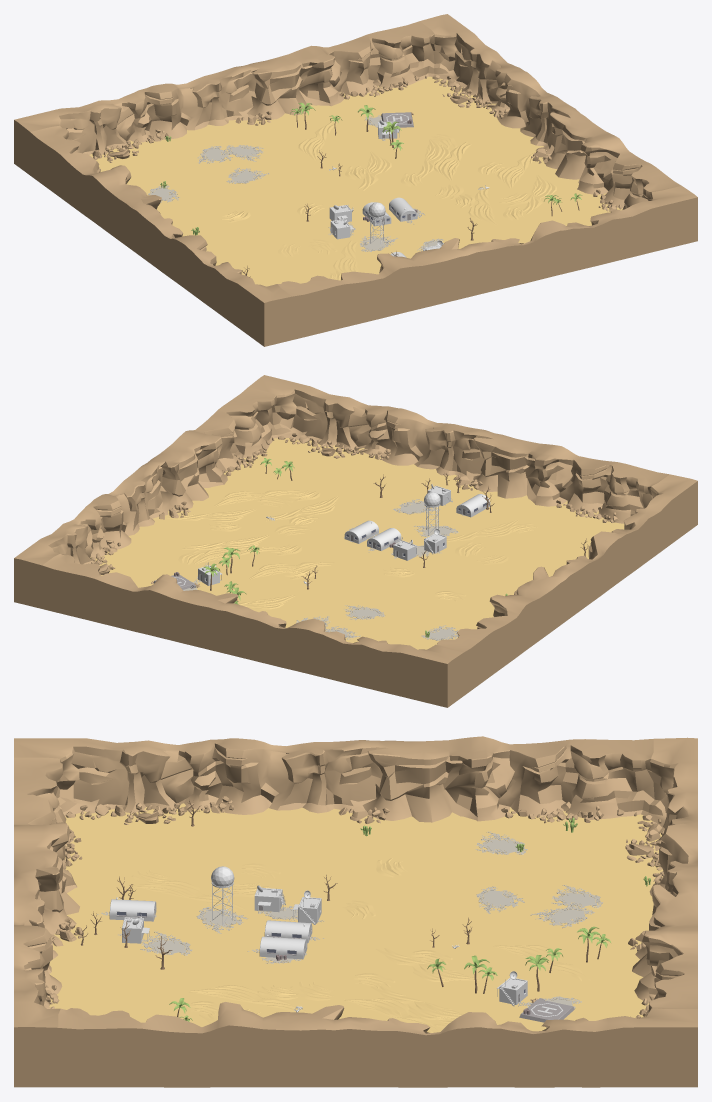
The model's file is _Complete-Game.gltf.
3 renders of one model, top to bottom at view 1: azimuth 30°, elevation 25°; view 2: azimuth 150°, elevation 25°; view 3: azimuth 270°, elevation 25°, orthographic. The views are drawn at different scales.
Parts seen in each view (by area): view 1: GroundPlane, Boundaries, Cliff (2), Cliff (1), Cliff (3), Dunes02 (7), Dunes02 (6), Dunes02 (1), Dunes02 (5), Dunes02 (4), Dunes02 (2), Dunes02 (3); view 2: GroundPlane, Boundaries, Cliff (2), Cliff (3), Cliff (1), Dunes02 (6), Dunes02 (4), Dunes02 (1), Dunes02 (5), Dunes02 (3), Dunes02, Building02 (+1 smaller); view 3: GroundPlane, Cliff (1), Cliff (3), Cliff (2), Boundaries, Dunes02 (1), Dunes02, Dunes02 (6), Building02 (1), Dunes02 (2), Dunes02 (5), Dunes02 (7) (+14 smaller).
Part boxes in pixels (x1=…): GroundPlane: x1=89, y1=76, x2=622, y2=286; Boundaries: x1=14, y1=21, x2=435, y2=175; Cliff (2): x1=277, y1=185, x2=697, y2=339; Cliff (1): x1=30, y1=125, x2=292, y2=346; Cliff (3): x1=420, y1=14, x2=681, y2=211; Dunes02 (7): x1=298, y1=121, x2=336, y2=160; Dunes02 (6): x1=358, y1=151, x2=391, y2=190; Dunes02 (1): x1=468, y1=186, x2=496, y2=225; Dunes02 (5): x1=434, y1=142, x2=471, y2=180; Dunes02 (4): x1=522, y1=175, x2=556, y2=213; Dunes02 (2): x1=416, y1=139, x2=450, y2=178; Dunes02 (3): x1=497, y1=151, x2=536, y2=188; GroundPlane: x1=90, y1=438, x2=624, y2=649; Boundaries: x1=42, y1=553, x2=463, y2=707; Cliff (2): x1=248, y1=375, x2=669, y2=523; Cliff (3): x1=14, y1=387, x2=277, y2=608; Cliff (1): x1=436, y1=474, x2=697, y2=695; Dunes02 (6): x1=249, y1=562, x2=333, y2=579; Dunes02 (4): x1=214, y1=490, x2=299, y2=506; Dunes02 (1): x1=265, y1=496, x2=338, y2=521; Dunes02 (5): x1=182, y1=535, x2=269, y2=549; Dunes02 (3): x1=166, y1=509, x2=256, y2=521; Dunes02: x1=446, y1=519, x2=518, y2=541; Building02: x1=367, y1=528, x2=401, y2=552; GroundPlane: x1=49, y1=803, x2=663, y2=1032; Cliff (1): x1=14, y1=736, x2=654, y2=824; Cliff (3): x1=58, y1=1002, x2=697, y2=1087; Cliff (2): x1=14, y1=757, x2=83, y2=1087; Boundaries: x1=625, y1=737, x2=697, y2=1018; Dunes02 (1): x1=188, y1=985, x2=306, y2=1012; Dunes02: x1=131, y1=880, x2=245, y2=910; Dunes02 (6): x1=375, y1=948, x2=479, y2=981; Building02 (1): x1=247, y1=934, x2=307, y2=960; Dunes02 (2): x1=371, y1=985, x2=463, y2=1019; Dunes02 (5): x1=344, y1=998, x2=439, y2=1032; Dunes02 (7): x1=493, y1=945, x2=590, y2=981.
Bounding box in the file's own units: 110 × 11.9 × 110.
